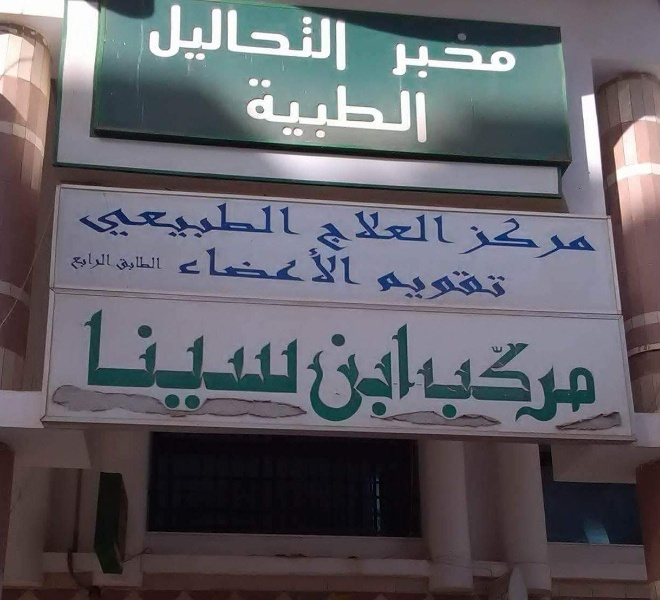text: (81, 304, 96, 415), (97, 304, 112, 415), (113, 304, 128, 415), (129, 304, 144, 415), (145, 304, 160, 415), (161, 304, 176, 415), (177, 304, 192, 415), (193, 304, 208, 415), (209, 304, 224, 415), (225, 304, 240, 415), (241, 304, 256, 415), (257, 304, 272, 415), (273, 304, 288, 415), (401, 321, 417, 423), (321, 321, 336, 423), (337, 321, 352, 423), (353, 321, 368, 423), (369, 321, 384, 423), (385, 321, 400, 423), (306, 321, 320, 423), (289, 304, 301, 415), (417, 338, 432, 426), (433, 338, 448, 426), (449, 338, 464, 426), (465, 338, 480, 426), (481, 338, 496, 426), (497, 338, 512, 426), (513, 338, 528, 426), (529, 338, 544, 426), (545, 338, 560, 426), (561, 338, 576, 426), (577, 338, 592, 426), (257, 77, 272, 149), (273, 77, 288, 149), (289, 77, 304, 149), (305, 77, 320, 149), (321, 77, 336, 149), (337, 77, 352, 149), (353, 77, 368, 149), (369, 77, 384, 149), (385, 77, 400, 149), (401, 77, 416, 149), (161, 3, 176, 75), (177, 3, 192, 75), (193, 3, 208, 75), (209, 3, 224, 75), (225, 3, 240, 75), (241, 3, 256, 75), (257, 3, 272, 75), (273, 3, 288, 75), (289, 3, 304, 75), (305, 3, 320, 75), (321, 3, 336, 75), (417, 77, 429, 149), (245, 77, 256, 149), (401, 30, 416, 82), (417, 30, 432, 82), (433, 30, 448, 82), (449, 30, 464, 82), (465, 30, 480, 82), (481, 30, 496, 82), (497, 30, 512, 82), (177, 240, 192, 289), (193, 240, 208, 289), (209, 240, 224, 289), (225, 240, 240, 289), (241, 240, 256, 289), (257, 240, 272, 289), (273, 240, 288, 289), (289, 240, 304, 289), (305, 240, 320, 289), (321, 240, 336, 289), (337, 240, 352, 289), (337, 3, 347, 75), (465, 214, 480, 262), (481, 214, 496, 262), (497, 214, 512, 262), (513, 214, 528, 262), (529, 214, 544, 262), (545, 214, 560, 262), (561, 214, 576, 262), (577, 214, 592, 262), (81, 194, 96, 240), (97, 194, 112, 240), (113, 194, 128, 240), (129, 194, 144, 240), (145, 194, 160, 240), (161, 194, 176, 240), (177, 194, 192, 240), (193, 194, 208, 240), (209, 194, 224, 240), (225, 194, 240, 240), (241, 194, 256, 240), (257, 194, 272, 240), (273, 194, 288, 240), (321, 210, 336, 253), (337, 210, 352, 253), (353, 210, 368, 253), (369, 210, 384, 253), (385, 210, 400, 253), (401, 210, 416, 253), (417, 210, 432, 253), (433, 210, 448, 253), (385, 268, 400, 302), (401, 268, 416, 302), (417, 268, 432, 302), (433, 268, 448, 302), (449, 268, 464, 302), (465, 268, 480, 302), (481, 268, 496, 302), (289, 194, 300, 240), (153, 3, 160, 75), (353, 240, 362, 289), (593, 338, 598, 426), (513, 30, 521, 82), (497, 268, 509, 302), (373, 268, 384, 302), (449, 210, 457, 253), (394, 30, 400, 82), (458, 214, 464, 262), (81, 252, 96, 270), (97, 252, 112, 270), (129, 256, 144, 272), (145, 256, 160, 272), (116, 256, 128, 272), (593, 214, 597, 262), (70, 252, 80, 270), (77, 194, 80, 240), (317, 210, 320, 253), (161, 256, 163, 272)
